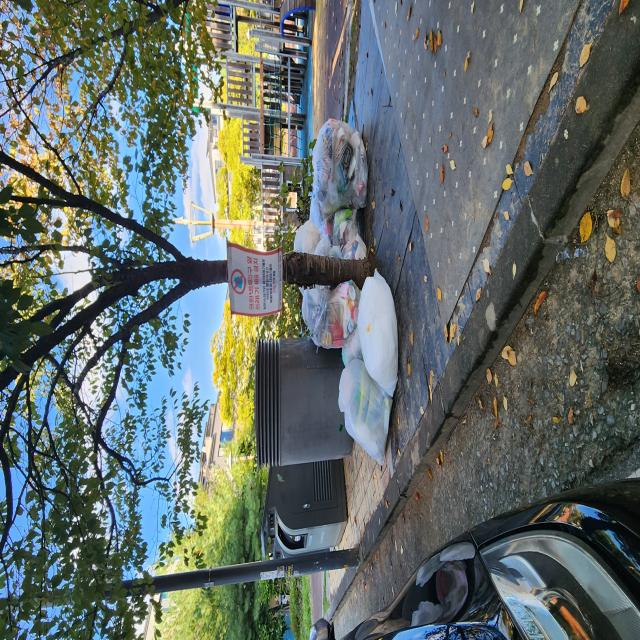CleanNet: (29, 552, 88, 640)
